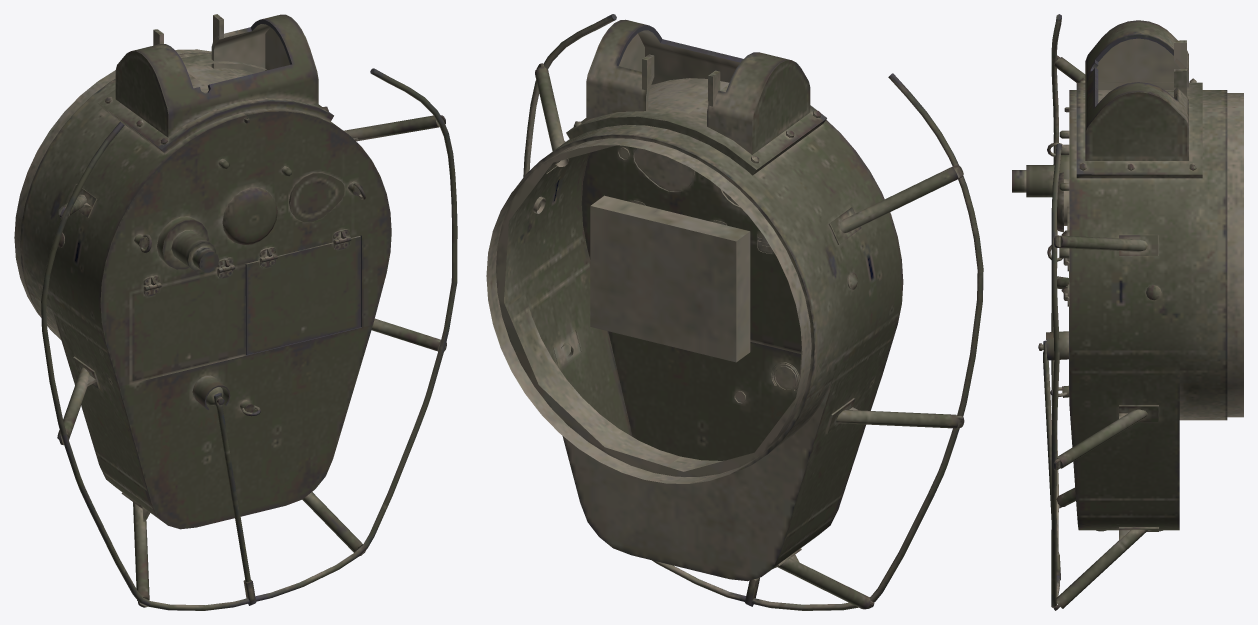
Rendered from Turret_01.glb.
3 views of the same model, side by side, from view 1: azimuth 30°, elevation 25°; view 2: azimuth 150°, elevation 25°; view 3: azimuth 270°, elevation 25° (orthographic). The views are drawn at different scales.
Parts seen in each view (by area): view 1: set_0_group_0; view 2: set_0_group_0; view 3: set_0_group_0.
Part boxes in pixels (<box>): set_0_group_0: <box>14,14,457,610</box>; set_0_group_0: <box>486,14,983,610</box>; set_0_group_0: <box>1012,14,1243,610</box>.
Size of the model in its own units: 1.86 by 2.3 by 0.9122.
1 material, 1 textured.
